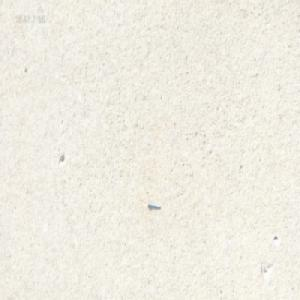Nail: (147, 200, 160, 209)
